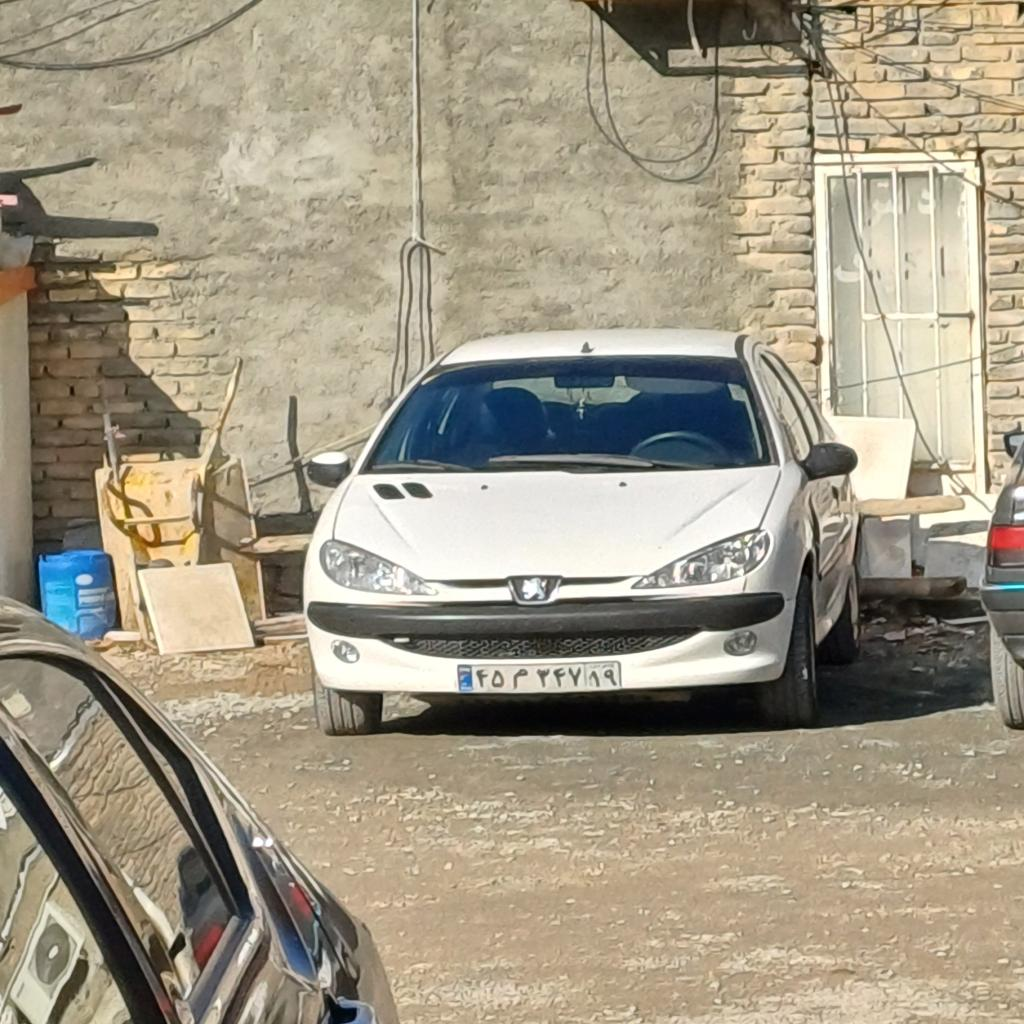Plates: (455, 662, 622, 692)
